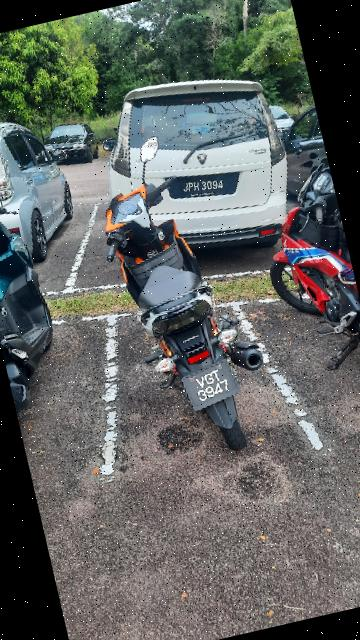License_Plate: (176, 353, 245, 414)
car: (81, 38, 311, 284), (1, 88, 96, 273), (40, 112, 101, 169)
motorcycle: (70, 114, 312, 485), (252, 150, 360, 389), (1, 163, 83, 427)
